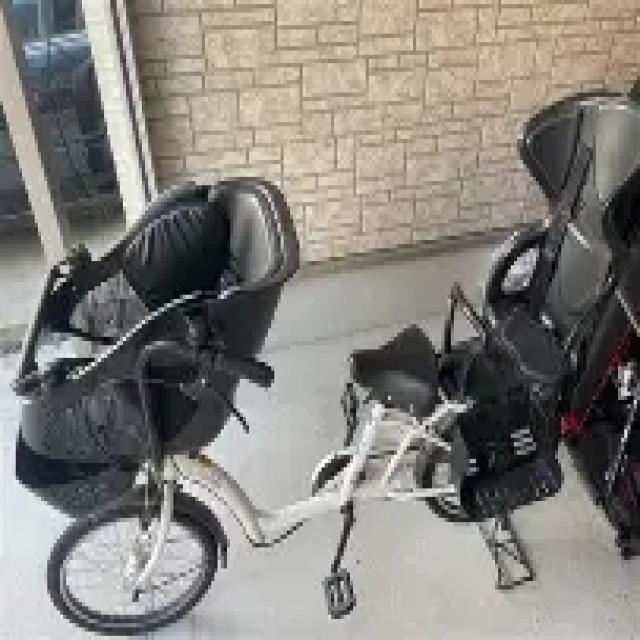childseat: (428, 90, 640, 509), (24, 169, 302, 457)
